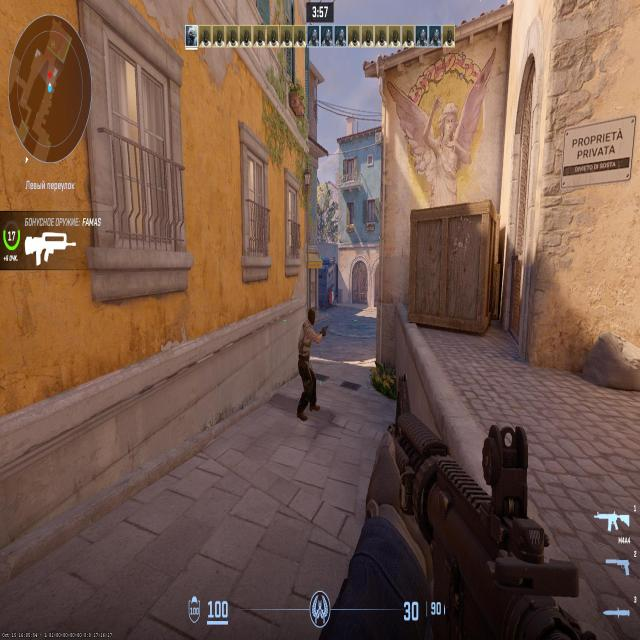T: (305, 308, 318, 414)
T_heat: (307, 313, 314, 330)
